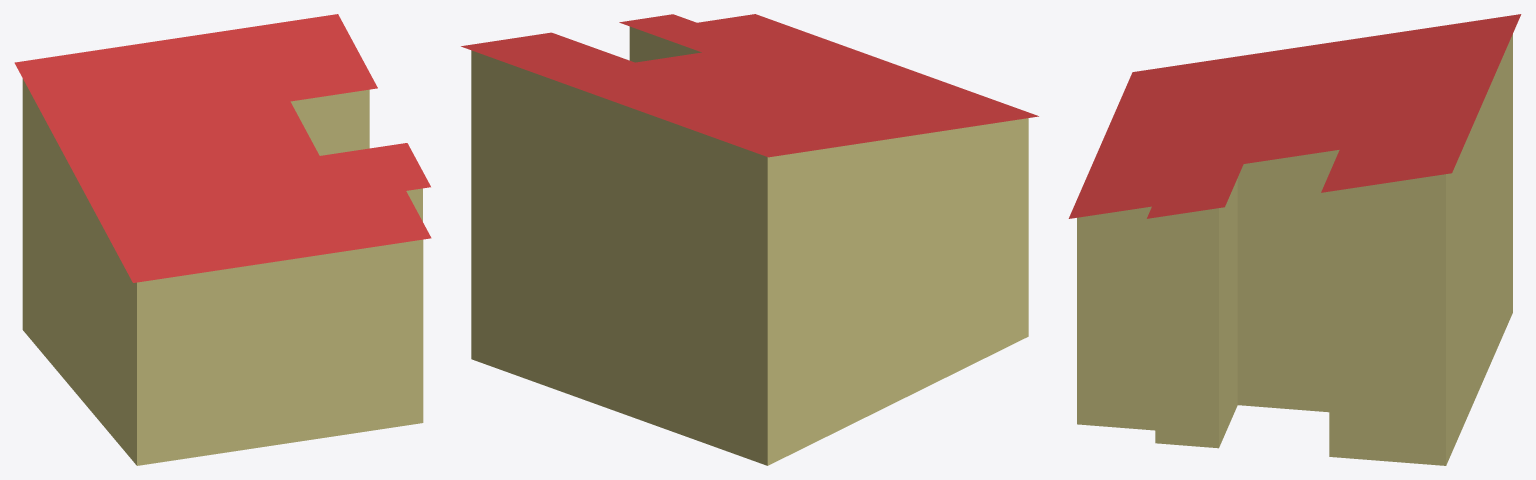
The picture shows the model from 3 angles, left to right: view 1: azimuth 30°, elevation 25°; view 2: azimuth 150°, elevation 25°; view 3: azimuth 270°, elevation 25°; orthographic projection. The views are drawn at different scales.
Size of the model in its own units: 15.25 by 15.4 by 11.11.
